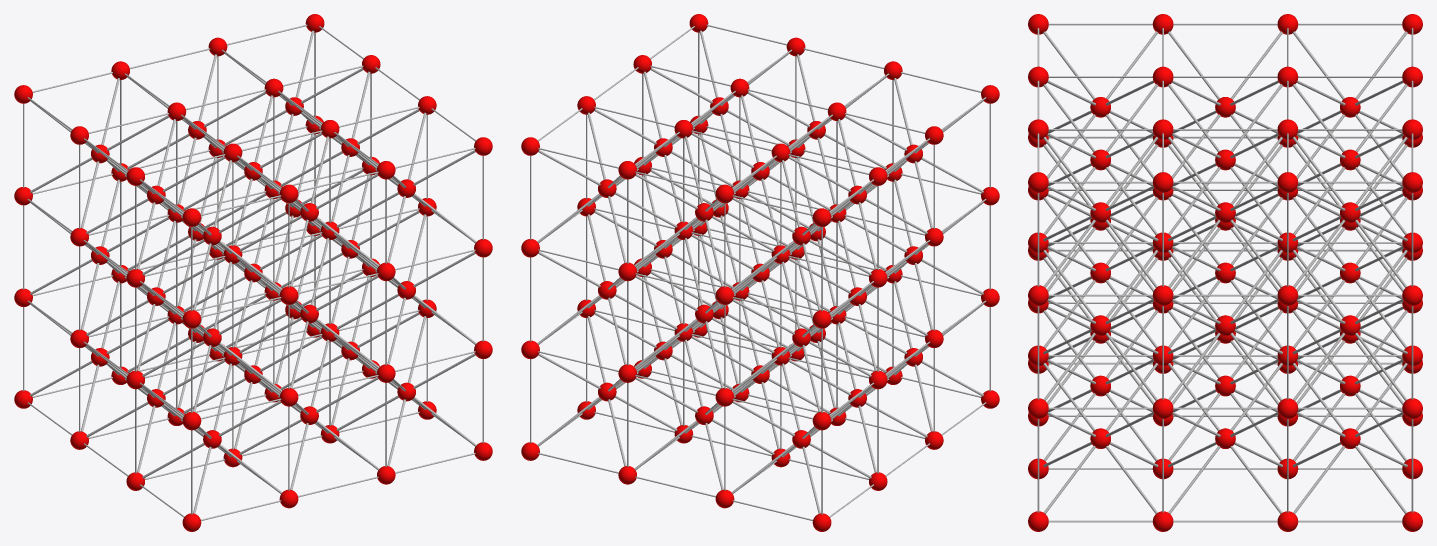
File: bcc_standardisiert_FINAL.glb
3 views of the same model, side by side, from view 1: azimuth 30°, elevation 25°; view 2: azimuth 150°, elevation 25°; view 3: azimuth 270°, elevation 25° (orthographic). The views are drawn at different scales.
Visible parts, largest first — view 1: world; view 2: world; view 3: world.
Part boxes in pixels (left/top/right/bottom): world: left=14, top=14, right=492, bottom=531; world: left=521, top=14, right=999, bottom=531; world: left=1028, top=14, right=1422, bottom=531.
Bounding box in the file's own units: 14.25 × 14.25 × 14.25.
